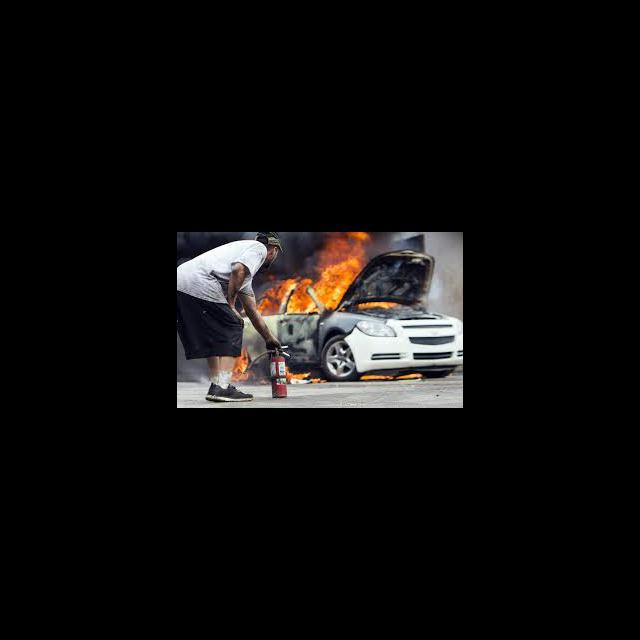Fire: (288, 232, 368, 314), (258, 278, 294, 314), (230, 350, 256, 382), (361, 371, 424, 380), (356, 299, 399, 312), (284, 368, 313, 379)
